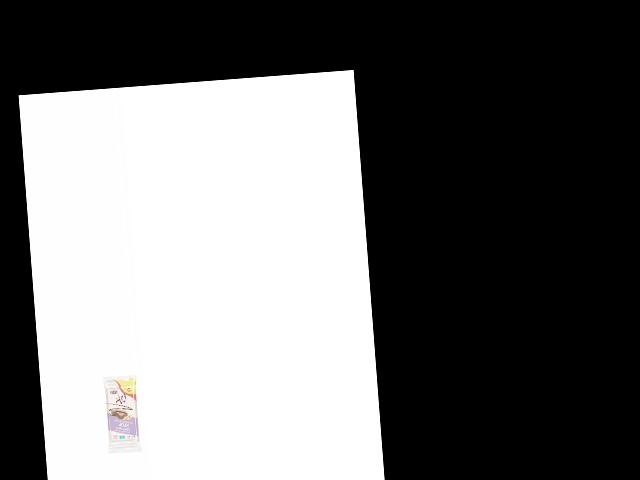chocolate: (99, 372, 144, 454)
